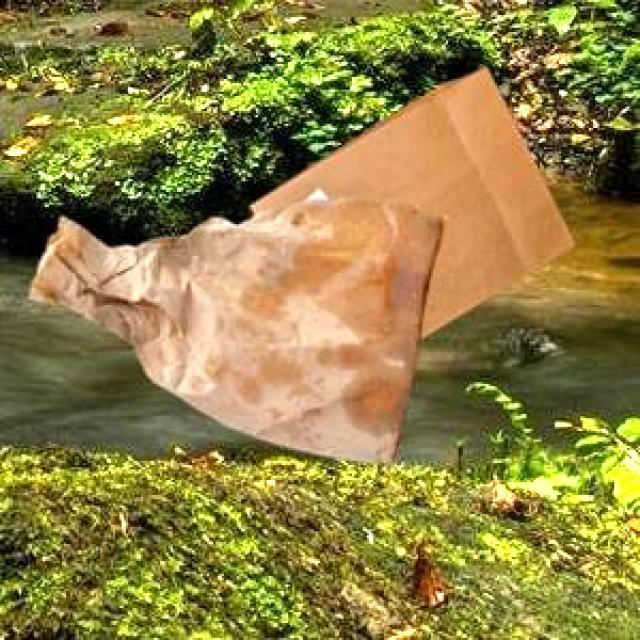Paper_Bag: (28, 197, 446, 464), (248, 63, 570, 336)
